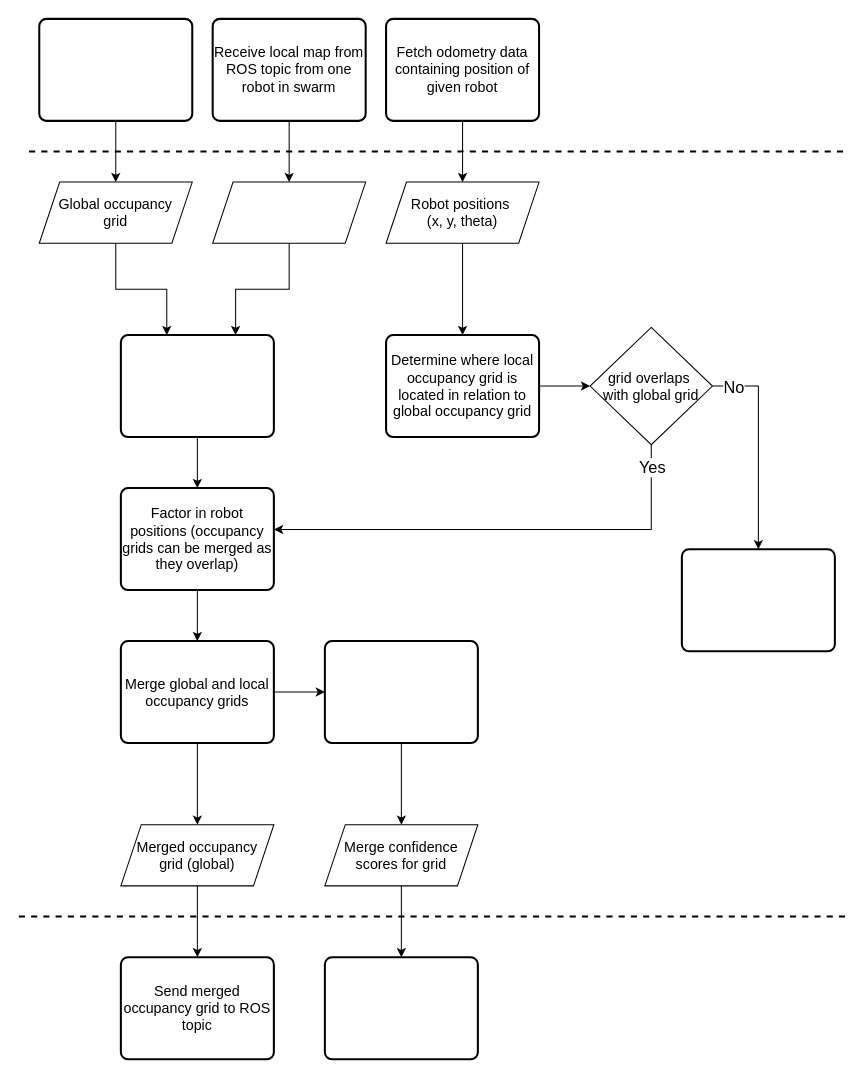
This 864x1077 diagram has some shape labels left out. The centre of each missing label's shape, as x and y in pixels:
Compare areas in occupancy grid: pixel 196 386
Compute confidence of merged regions: pixel 400 692
Local occupancy grid: pixel 289 212
Log confidence scores for current global occupancy grid: pixel 400 1008
Occupancy grids can't be merged: pixel 757 600
Receive global occupancy grid from ROS topic: pixel 115 69
